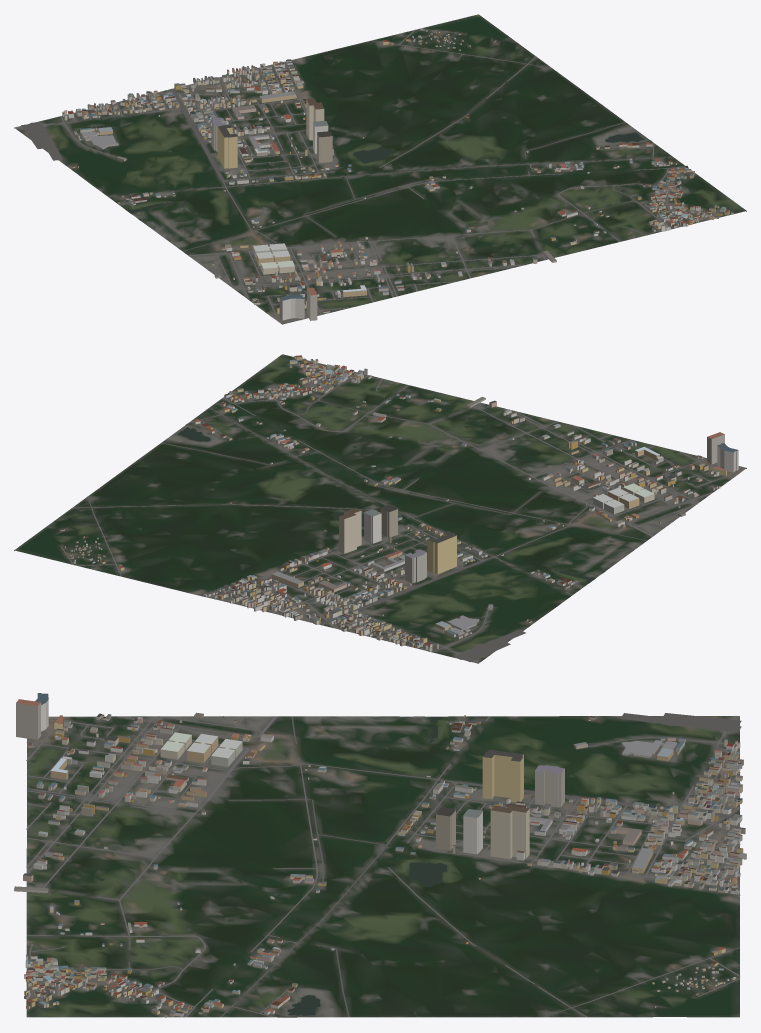
The picture shows the model from 3 angles, top to bottom: view 1: azimuth 30°, elevation 25°; view 2: azimuth 150°, elevation 25°; view 3: azimuth 270°, elevation 25°; orthographic projection. The views are drawn at different scales.
Parts seen in each view (by area): view 1: ground, buildings, roads, water; view 2: ground, buildings, roads; view 3: ground, buildings, roads, water.
Part boxes in pixels (x1,y1,x2,y2): ground: (14,14,746,324); buildings: (62,28,733,320); roads: (15,28,716,323); water: (127,132,644,248); ground: (14,354,746,663); buildings: (60,355,738,651); roads: (61,363,743,662); ground: (26,716,739,1017); buildings: (14,693,746,1017); roads: (26,713,741,1017); water: (74,716,447,1015).
Size of the model in its own units: 1416 by 105 by 1441.
